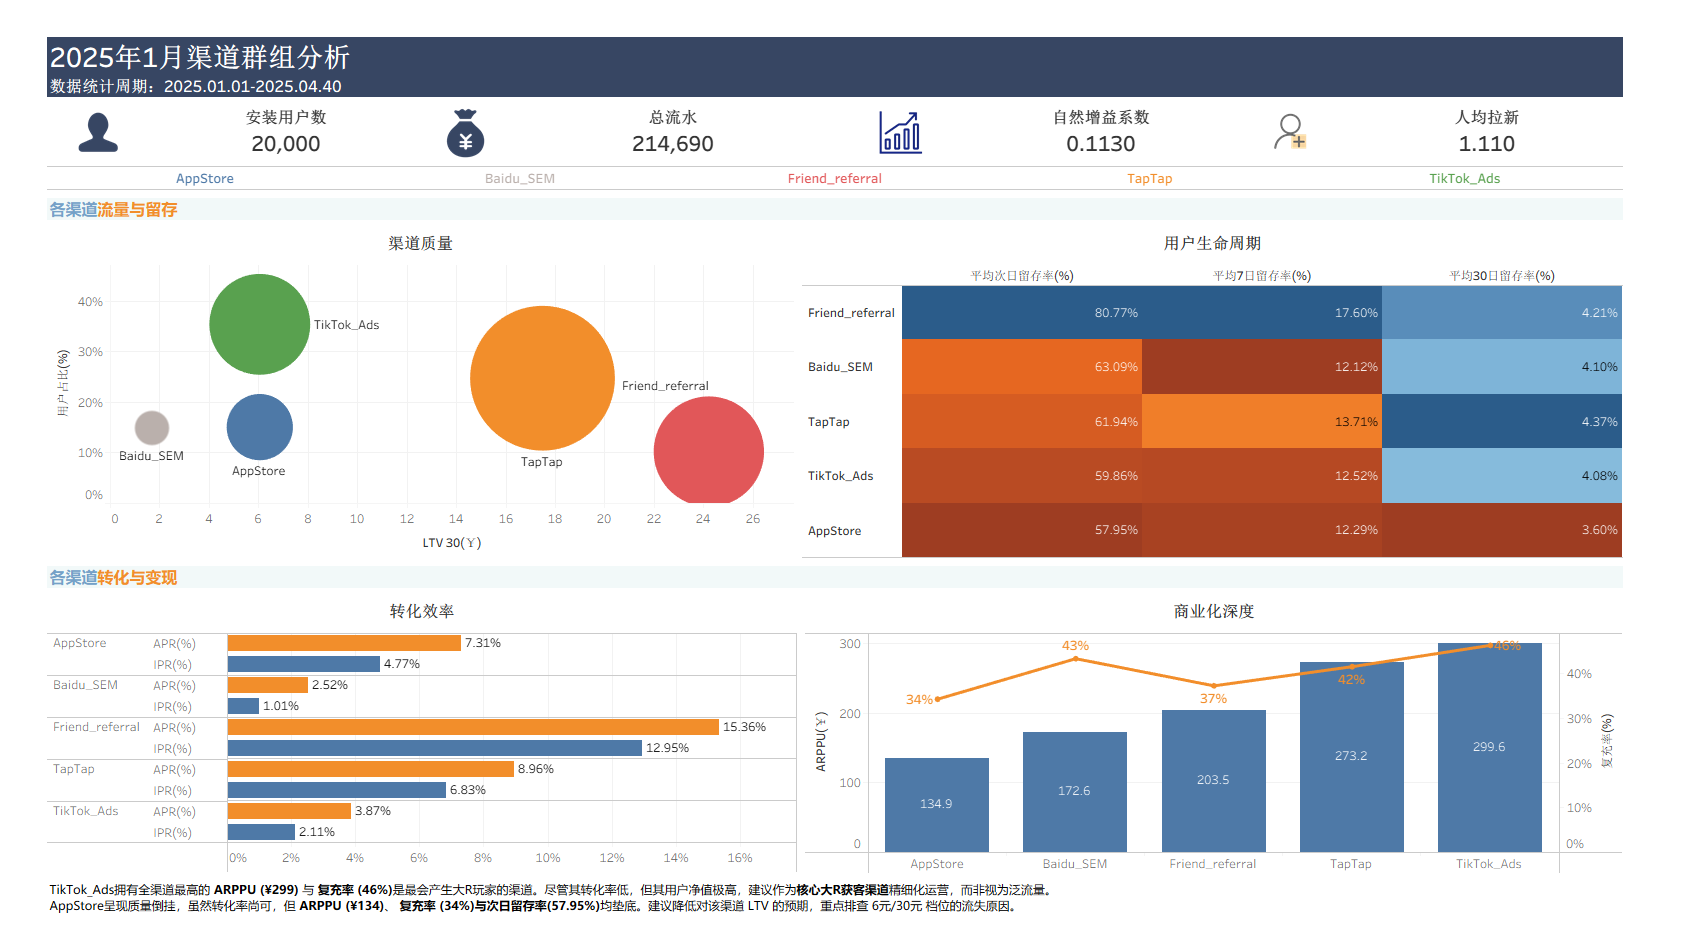

The dashboard page shown, as its layout file describes it:
{"tool":"tableau","page":{"name":"2025年1月渠道群组分析","canvas":[1600,900],"ordinal":0},"visuals":[{"type":"title","box":[8,8,1584,68]},{"type":"image","param":"Image/总人数.png","box":[8,76,109,60.9]},{"type":"worksheet","title":"用户数卡片","mark":"Automatic","box":[117,76,268,60.9]},{"type":"image","param":"Image/钱袋.png","box":[385,76,90,60.9]},{"type":"worksheet","title":"总流水卡片","mark":"Automatic","box":[475,76,325,60.9]},{"type":"image","param":"Image/增长.png","box":[800,76,131.9,60.9]},{"type":"worksheet","title":"自然增益卡片","mark":"Automatic","box":[931.9,76,268,60.9]},{"type":"image","param":"Image/拉新.png","box":[1199.9,76,111.1,60.9]},{"type":"worksheet","title":"人均拉新","mark":"Automatic","box":[1311,76,281,60.9]},{"type":"worksheet","title":"工作表 9","mark":"Text","cols":["渠道"],"box":[8,136.9,1584,32]},{"type":"text","box":[8,168.9,1584,30]},{"type":"worksheet","title":"渠道质量","mark":"Circle","rows":["用户占比"],"cols":["LTV_30"],"box":[8,198.9,755,338]},{"type":"worksheet","title":"用户生命周期","mark":"Square","rows":["渠道 (Retention.csv)"],"box":[763,198.9,829,338]},{"type":"text","box":[8,536.9,1584,30]},{"type":"worksheet","title":"转化效率","mark":"Bar","rows":["渠道"],"box":[8,566.9,758,286.1]},{"type":"worksheet","title":"商业化深度","mark":"Bar","rows":["ARPPU","复充率"],"cols":["渠道"],"box":[766,566.9,826,286.1]},{"type":"text","box":[8,853,1584,39]}]}

Visuals, with their boxes in screenshot pixels (x1, y1, x2, y2), scaled from the page's 1600x900 canvas onto the 1694x941 screenshot:
title: 8/8/1686/79
image: 8/79/124/143
"用户数卡片" worksheet: 124/79/408/143
image: 408/79/503/143
"总流水卡片" worksheet: 503/79/847/143
image: 847/79/987/143
"自然增益卡片" worksheet: 987/79/1270/143
image: 1270/79/1388/143
"人均拉新" worksheet: 1388/79/1686/143
"工作表 9" worksheet (Text marks): 8/143/1686/177
text: 8/177/1686/208
"渠道质量" worksheet (Circle marks): 8/208/808/561
"用户生命周期" worksheet (Square marks): 808/208/1686/561
text: 8/561/1686/593
"转化效率" worksheet (Bar marks): 8/593/811/892
"商业化深度" worksheet (Bar marks): 811/593/1686/892
text: 8/892/1686/933
